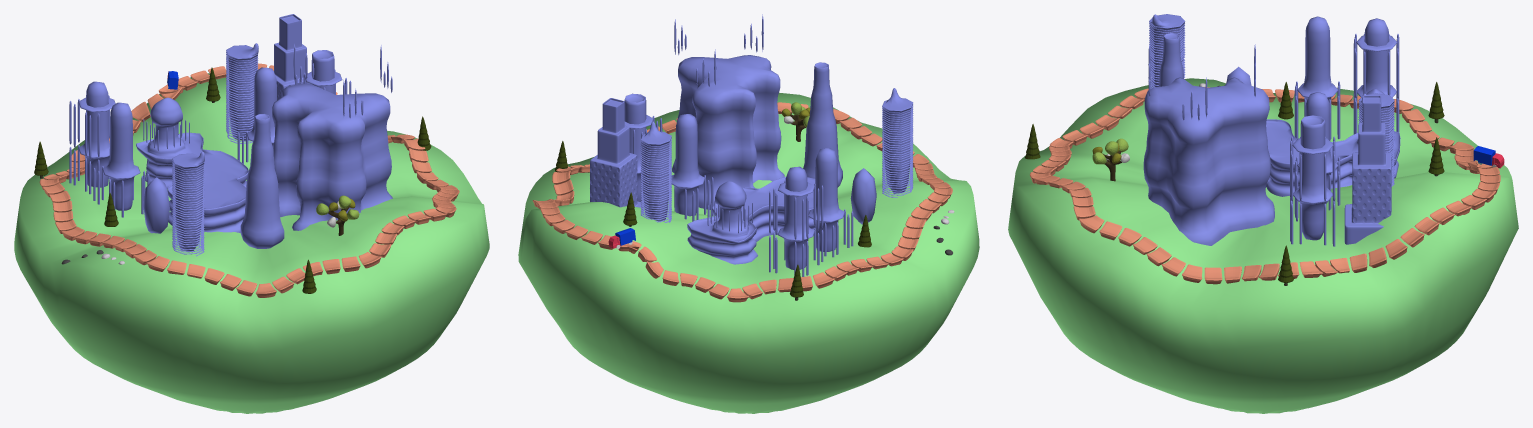
The model's file is animbiiiiil.fbx.
3 views of the same model, side by side, from view 1: azimuth 30°, elevation 25°; view 2: azimuth 150°, elevation 25°; view 3: azimuth 270°, elevation 25° (orthographic). The views are drawn at different scales.
Visible parts, largest first — view 1: Cylinder.011; view 2: Cylinder.011; view 3: Cylinder.011.
Boxes of the visible parts, box(x1,y1,x2,y2) form: Cylinder.011: box(14, 14, 489, 413); Cylinder.011: box(518, 14, 979, 413); Cylinder.011: box(1008, 14, 1518, 413).
Size of the model in its own units: 9.49 by 7.73 by 9.49.
